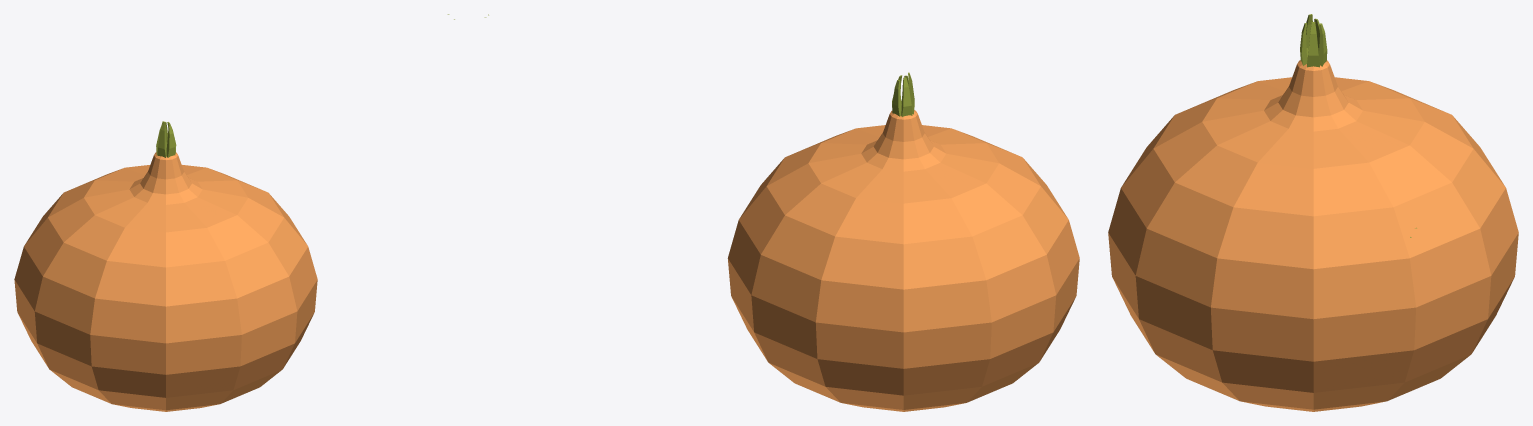
Rendered from Singleonion.glb.
3 views of the same model, side by side, from view 1: azimuth 30°, elevation 25°; view 2: azimuth 150°, elevation 25°; view 3: azimuth 270°, elevation 25° (orthographic). The views are drawn at different scales.
Visible parts, largest first — view 1: Node; view 2: Node; view 3: Node.
Part boxes in pixels (x1,y1,x2,y2): Node: [14, 14, 454, 411]; Node: [484, 14, 1079, 411]; Node: [1108, 14, 1518, 411].
Bounding box in the file's own units: 3.55 × 2.05 × 2.04.
